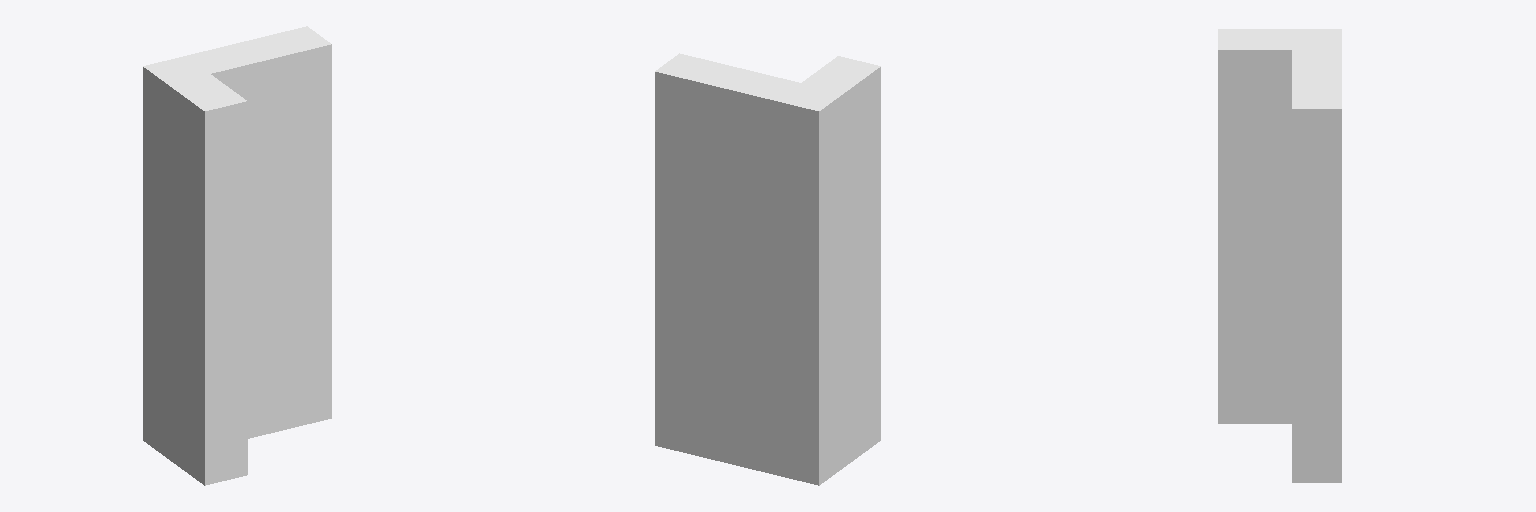
File: Treppenstuffe.obj
3 views of the same model, side by side, from view 1: azimuth 30°, elevation 25°; view 2: azimuth 150°, elevation 25°; view 3: azimuth 270°, elevation 25° (orthographic).
Visible parts, largest first — view 1: wall_2_10, wall_1_3, wall_1_4, wall_2_11, wall_2_12, wall_1_5, wall_1_6; view 2: wall_2_9, wall_1_3, wall_2_11, wall_2_12, wall_1_5, wall_1_6; view 3: wall_1_4, wall_2_9, wall_2_10, wall_2_11, wall_2_12, wall_1_5, wall_1_6.
Part boxes in pixels (x1,y1,x2,y2): wall_2_10: (211, 44, 331, 438); wall_1_3: (143, 67, 225, 485); wall_1_4: (226, 101, 247, 480); wall_2_11: (145, 26, 318, 69); wall_2_12: (179, 35, 330, 73); wall_1_5: (143, 66, 225, 110); wall_1_6: (177, 70, 246, 105); wall_2_9: (655, 72, 818, 485); wall_1_3: (819, 67, 880, 485); wall_2_11: (655, 63, 818, 110); wall_2_12: (667, 53, 809, 96); wall_1_5: (810, 61, 880, 110); wall_1_6: (801, 56, 858, 96); wall_1_4: (1218, 50, 1291, 423); wall_2_9: (1317, 109, 1341, 482); wall_2_10: (1292, 109, 1316, 482); wall_2_11: (1317, 29, 1341, 108); wall_2_12: (1292, 40, 1316, 108); wall_1_5: (1218, 29, 1339, 38); wall_1_6: (1218, 39, 1316, 49).
Bounding box in the file's own units: 46 × 100 × 30.